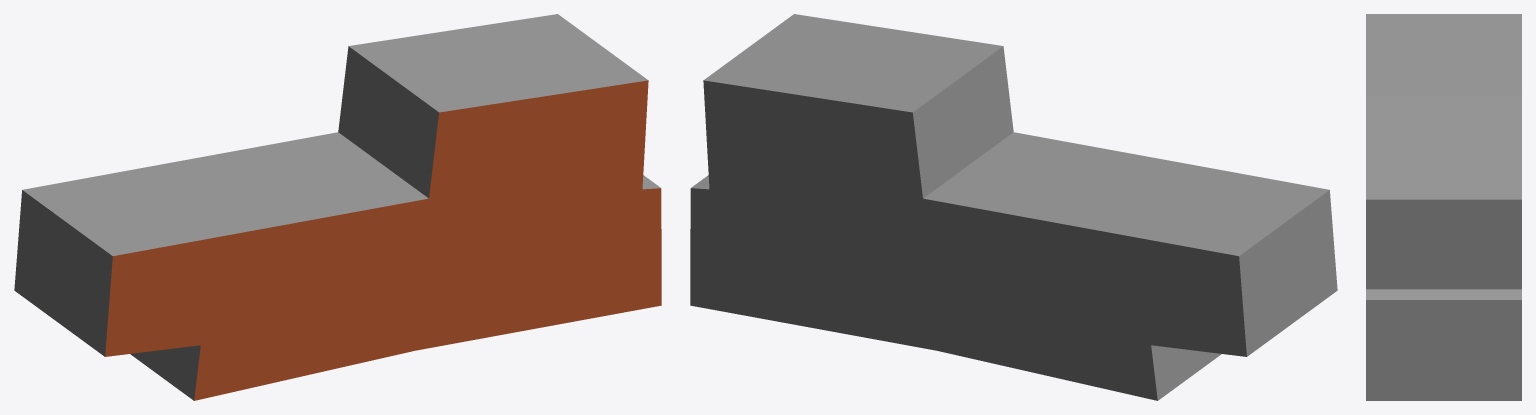
File: construction_2677_assumed_A_Casa_h6m.obj
3 views of the same model, side by side, from view 1: azimuth 30°, elevation 25°; view 2: azimuth 150°, elevation 25°; view 3: azimuth 270°, elevation 25° (orthographic). The views are drawn at different scales.
Visible parts, largest first — view 1: construction_2677_assumed_A_Casa; view 2: construction_2677_assumed_A_Casa; view 3: construction_2677_assumed_A_Casa.
Boxes of the visible parts, left/top/right/bottom form: construction_2677_assumed_A_Casa: left=14, top=14, right=661, bottom=400; construction_2677_assumed_A_Casa: left=690, top=14, right=1337, bottom=400; construction_2677_assumed_A_Casa: left=1366, top=14, right=1521, bottom=400.
Bounding box in the file's own units: 21.25 × 9.03 × 6.
